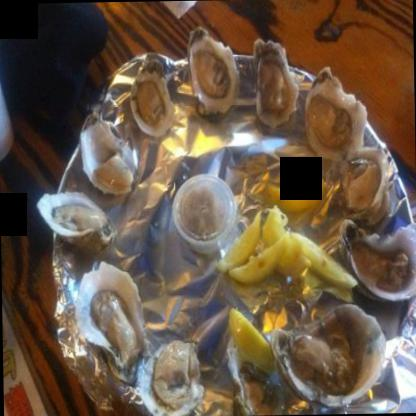oyster: (270, 297, 382, 408), (75, 262, 150, 366), (38, 188, 112, 265), (340, 221, 415, 296), (139, 336, 205, 415), (308, 66, 368, 152), (186, 21, 240, 114), (84, 114, 134, 188), (254, 44, 298, 121), (127, 60, 172, 134)
